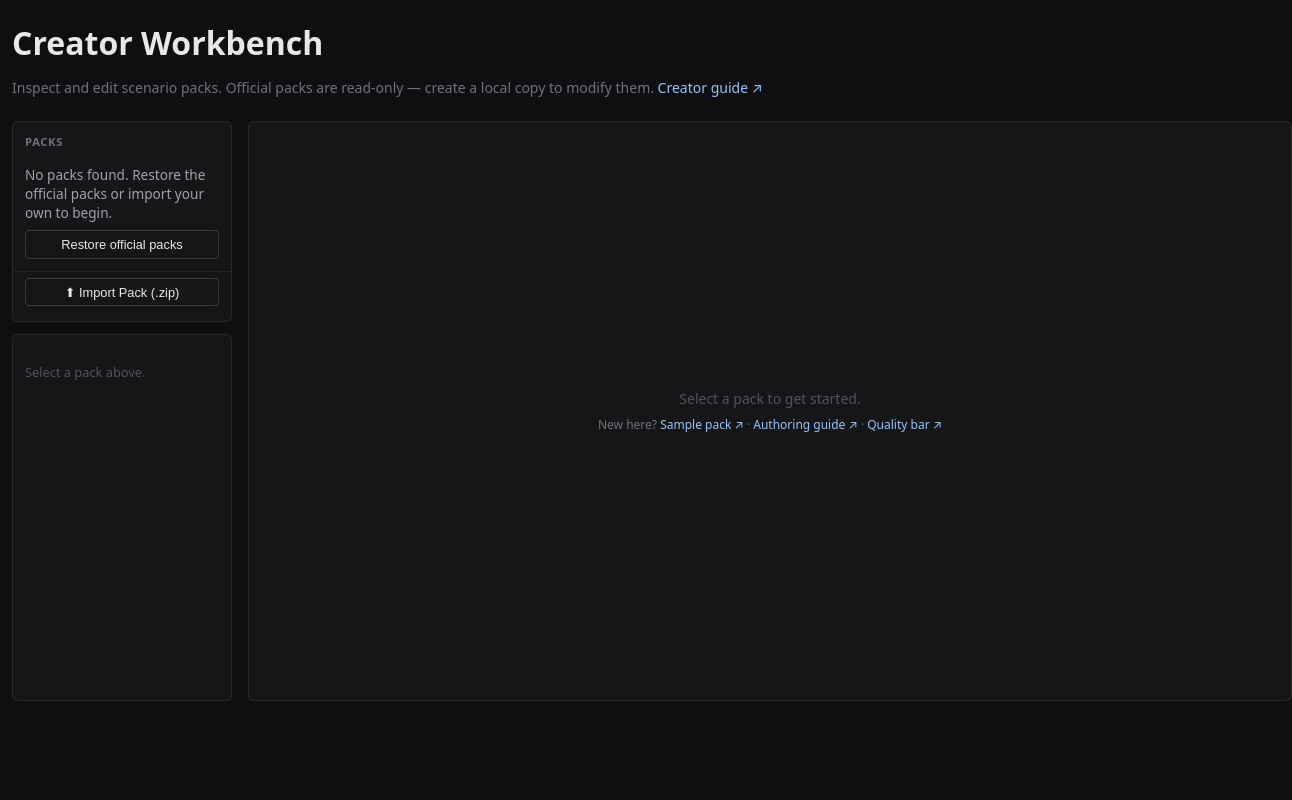
Test: CreatorWorkbench › reseeds and reloads the pack list when restore is clicked
Click the button with test id "restore-official-packs-button". click: click(122, 244)
box: left=25, top=230, right=219, bottom=259
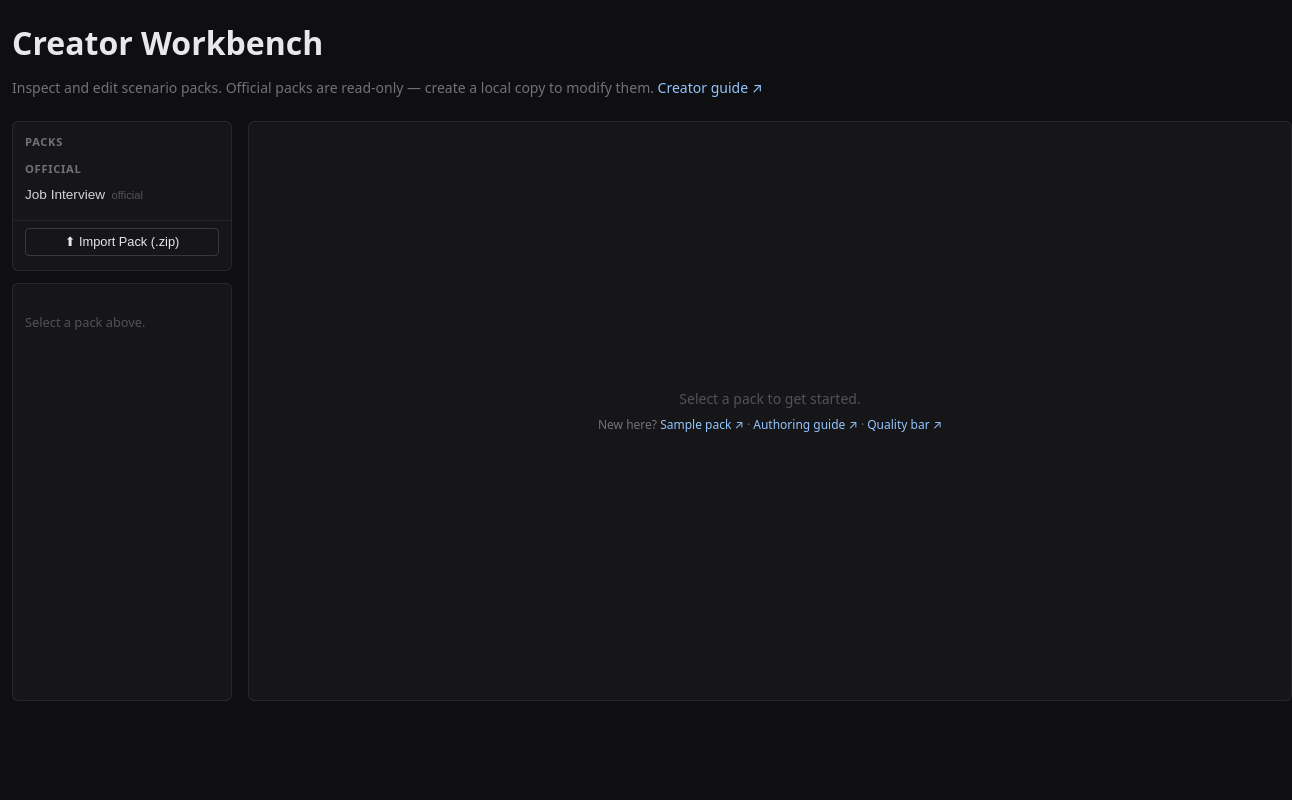
Check: the text "Job Interview" is shown, box left=25, top=187, right=105, bottom=202
Check: the button with test id "restore-official-packs-button" is gone
